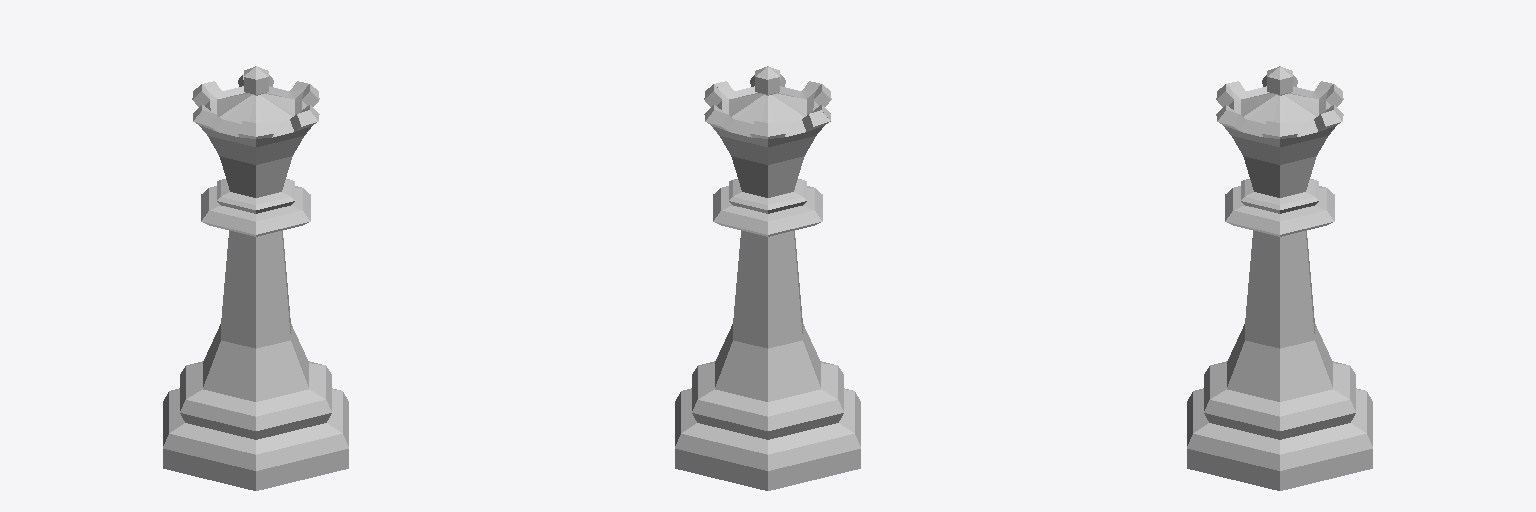
File: reina.obj
The picture shows the model from 3 angles: view 1: azimuth 30°, elevation 25°; view 2: azimuth 150°, elevation 25°; view 3: azimuth 270°, elevation 25°; orthographic projection.
Visible parts, largest first — view 1: polySurface10; view 2: polySurface10; view 3: polySurface10.
Boxes of the visible parts, <box> form: polySurface10: <box>163,66,348,490</box>; polySurface10: <box>675,66,860,490</box>; polySurface10: <box>1187,66,1372,490</box>.
Bounding box in the file's own units: 0.8763 × 1.7 × 0.7589.